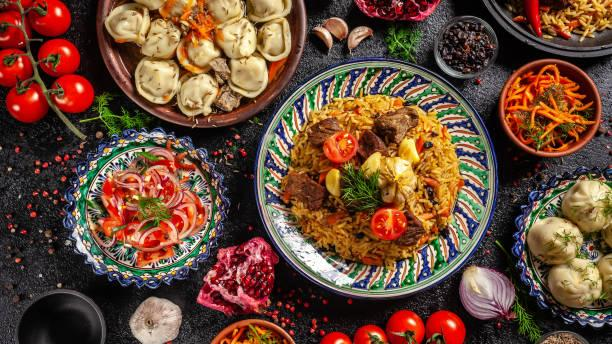Braised Crucian Carp: (255, 57, 492, 298), (94, 0, 297, 129), (62, 128, 227, 285), (515, 165, 612, 330), (498, 58, 600, 157)
